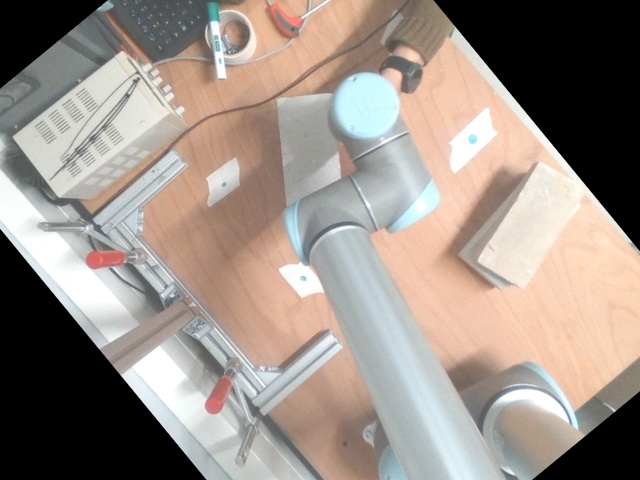brick: (481, 162, 586, 287)
